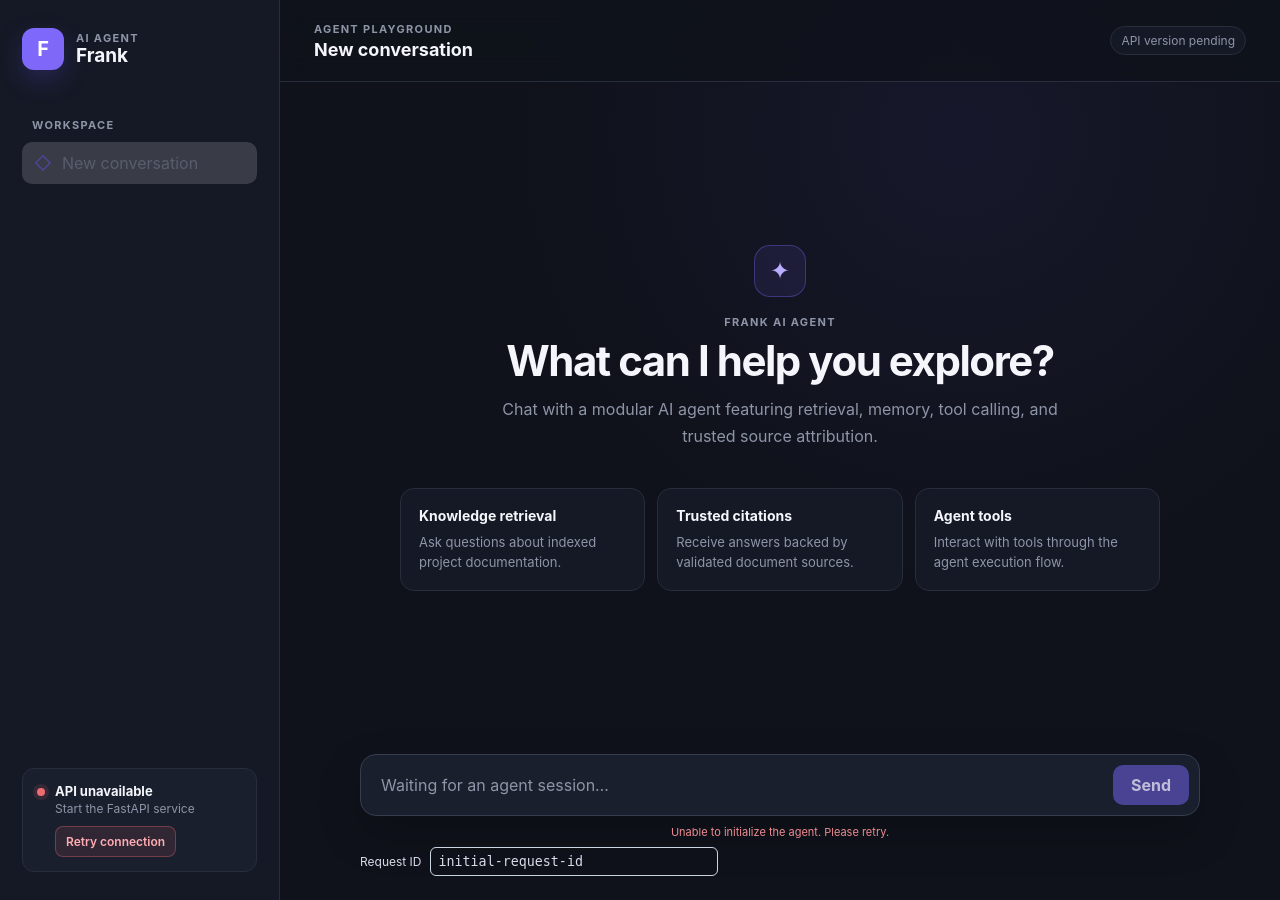
App › should update initialization diagnostics after retrying fails with an API error without a request ID
The width and height of the screenshot is (1280, 900).
Check: the field labelled "Request ID" holds "initial-request-id", box top-left (430, 847), bottom-right (718, 876)
Click the button "Retry connection" at (116, 842), box top-left (55, 826), bottom-right (176, 857)
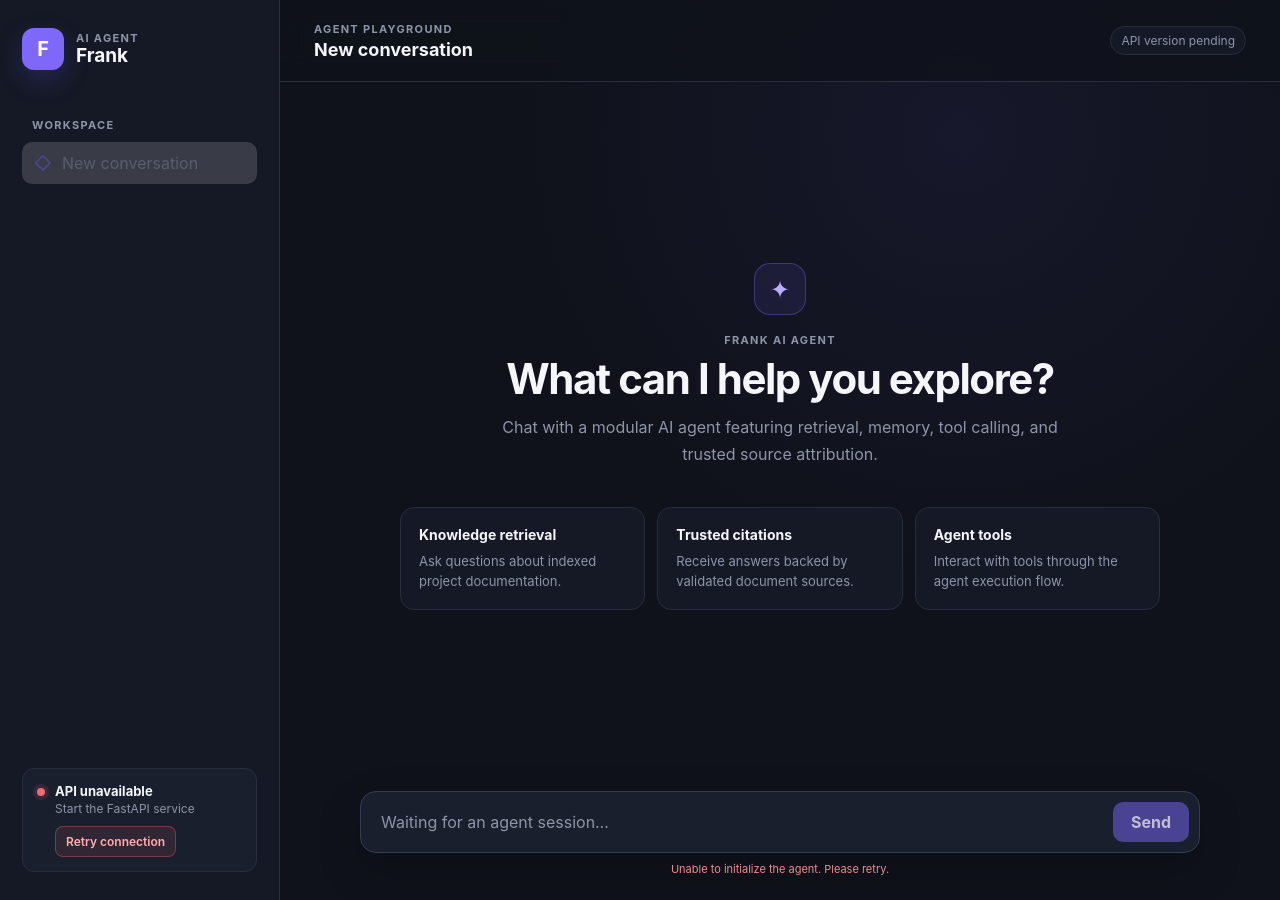
Check: the text "API unavailable" is shown, box top-left (55, 783), bottom-right (153, 799)
Check: the text "Request ID" is gone
